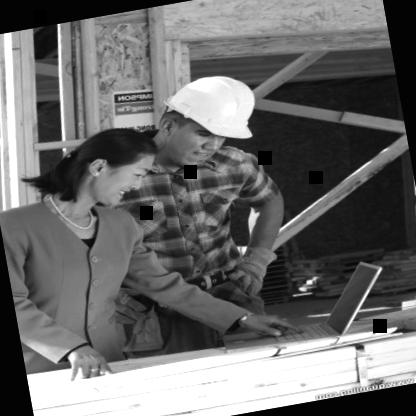helmet: (136, 58, 276, 176)
